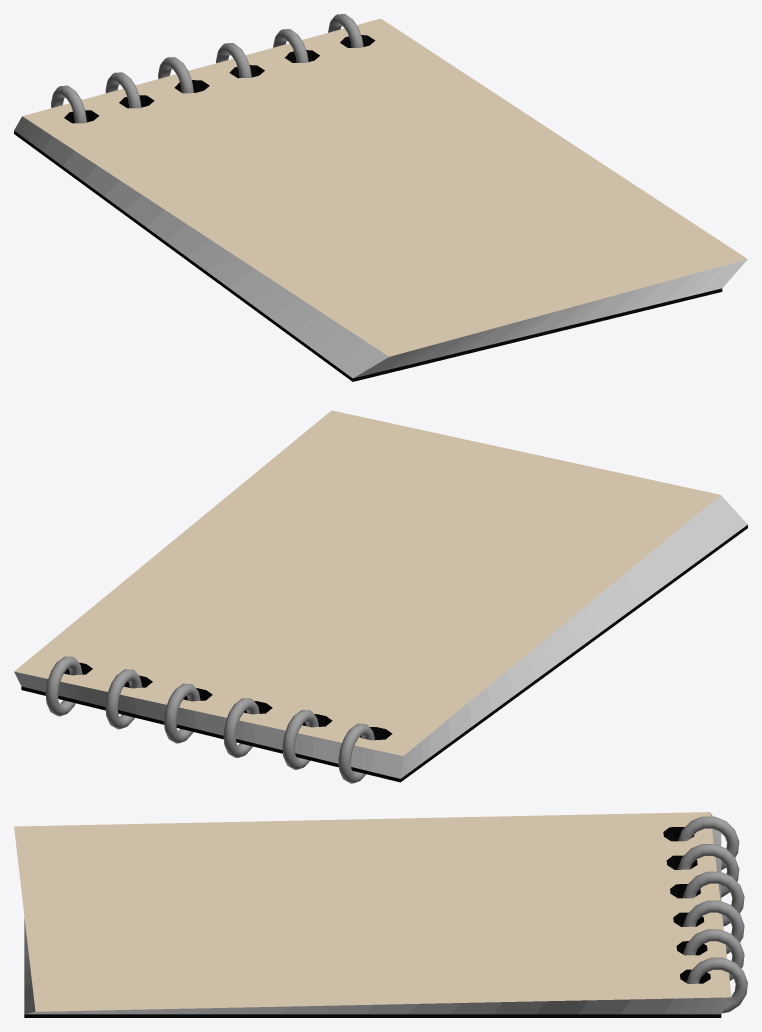
File: Notebook_joined.fbx
3 renders of one model, top to bottom at view 1: azimuth 30°, elevation 25°; view 2: azimuth 150°, elevation 25°; view 3: azimuth 270°, elevation 25°, orthographic. The views are drawn at different scales.
Visible parts, largest first — view 1: Notebook; view 2: Notebook; view 3: Notebook.
Boxes of the visible parts, left/top/right/bottom form: Notebook: left=14, top=14, right=747, bottom=381; Notebook: left=14, top=410, right=747, bottom=783; Notebook: left=14, top=812, right=747, bottom=1017.
Bounding box in the file's own units: 217 × 27.94 × 334.
